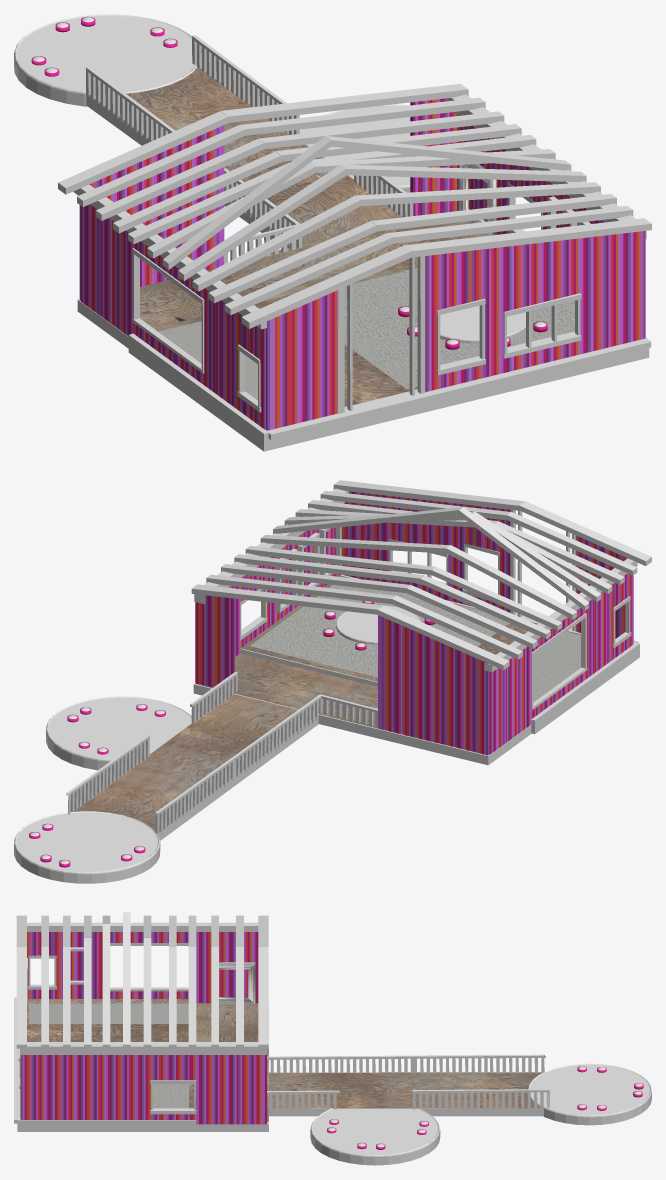
File: cloudNine_template.glb
3 views of the same model, one above another, from view 1: azimuth 30°, elevation 25°; view 2: azimuth 150°, elevation 25°; view 3: azimuth 270°, elevation 25° (orthographic). The views are drawn at different scales.
Parts seen in each view (by area): view 1: southbath2, Plane.005, Plane.004, Cube, Cube.292, Plane.002, Cube.423, Cube.432, Cube.433, Cube.439, Cube.430, Cube.438 (+29 smaller); view 2: Plane.005, southbath2, soundbath1, Plane.004, Plane.002, Cube.292, Cube.423, Cube.439, Cube.428, Cube.431, Cube.427, Cube.426 (+23 smaller); view 3: Plane.005, soundbath1, southbath2, Plane.001, Cube.640, Plane.003, Cube, Plane.002, Cube.291, Cube.641, Cube.292, Cube.427 (+22 smaller).
Boxes of the visible parts, x1=… form: southbath2: x1=14, y1=14, x2=201, y2=106; Plane.005: x1=89, y1=67, x2=402, y2=245; Plane.004: x1=344, y1=268, x2=574, y2=388; Cube: x1=128, y1=334, x2=649, y2=451; Cube.292: x1=58, y1=83, x2=468, y2=194; Plane.002: x1=140, y1=210, x2=486, y2=327; Cube.423: x1=77, y1=97, x2=485, y2=206; Cube.432: x1=178, y1=164, x2=586, y2=280; Cube.433: x1=192, y1=182, x2=600, y2=291; Cube.439: x1=163, y1=136, x2=571, y2=269; Cube.430: x1=224, y1=206, x2=633, y2=315; Cube.438: x1=208, y1=193, x2=616, y2=303; Plane.005: x1=74, y1=694, x2=315, y2=831; southbath2: x1=14, y1=811, x2=160, y2=883; soundbath1: x1=46, y1=696, x2=191, y2=770; Plane.004: x1=250, y1=585, x2=509, y2=677; Plane.002: x1=198, y1=653, x2=484, y2=754; Cube.292: x1=191, y1=584, x2=509, y2=670; Cube.423: x1=206, y1=574, x2=522, y2=659; Cube.439: x1=273, y1=507, x2=589, y2=610; Cube.428: x1=245, y1=546, x2=562, y2=630; Cube.431: x1=260, y1=535, x2=577, y2=619; Cube.427: x1=234, y1=554, x2=550, y2=638; Cube.426: x1=221, y1=564, x2=537, y2=648; Plane.005: x1=269, y1=1072, x2=541, y2=1108; soundbath1: x1=310, y1=1108, x2=440, y2=1165; southbath2: x1=528, y1=1063, x2=651, y2=1125; Plane.001: x1=27, y1=999, x2=193, y2=1117; Cube.640: x1=20, y1=1042, x2=267, y2=1054; Plane.003: x1=29, y1=1003, x2=188, y2=1023; Cube: x1=17, y1=1120, x2=195, y2=1131; Plane.002: x1=196, y1=1003, x2=268, y2=1122; Cube.291: x1=27, y1=922, x2=258, y2=931; Cube.641: x1=269, y1=1108, x2=544, y2=1116; Cube.292: x1=258, y1=915, x2=268, y2=1048; Cube.427: x1=188, y1=915, x2=196, y2=1048.
Size of the model in its own units: 39.42 by 16.76 by 66.56.
Materials: 13 (3 with a texture image).
